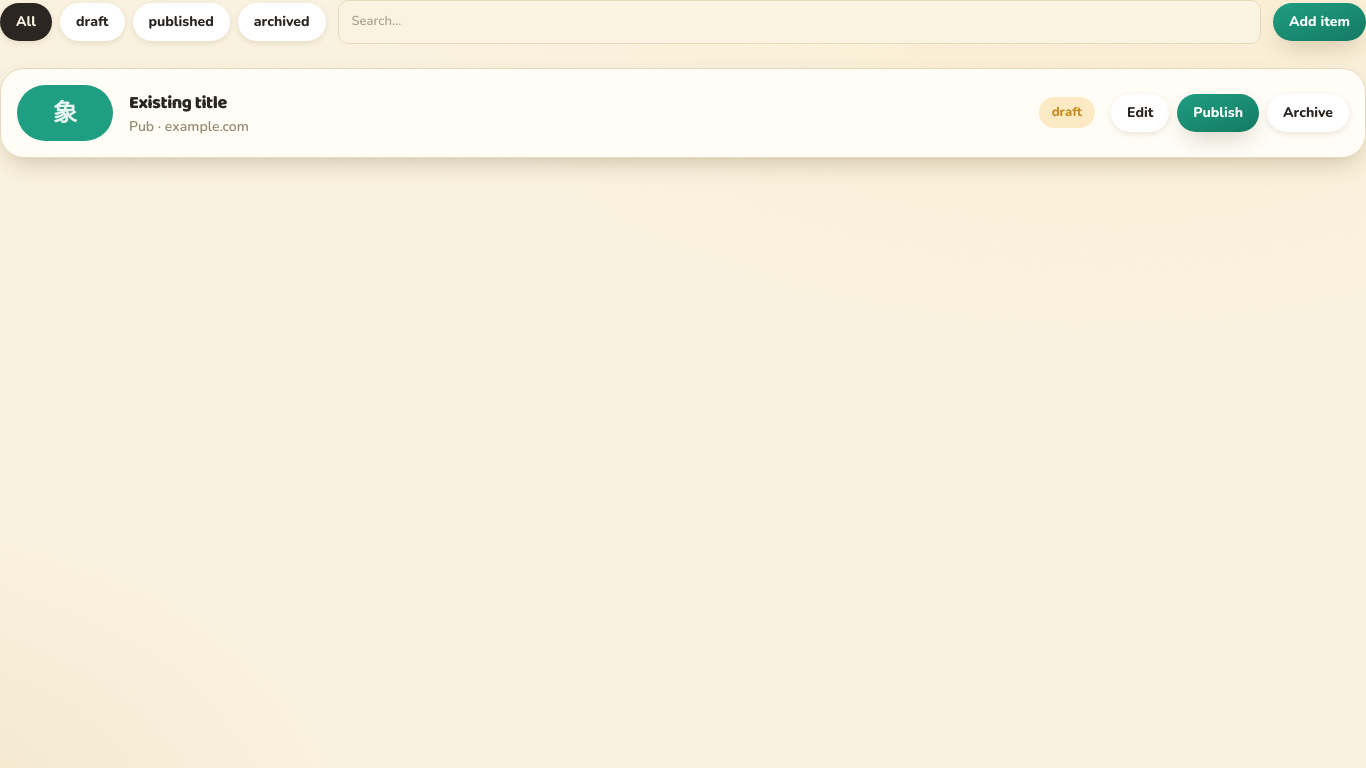
Test: AdminNewsScreen › opens the editor with server validation fields when PATCH publish fails
This screenshot has width=1366, height=768.
Click the button "Publish".
click(1218, 112)  # box [1177,94,1259,132]
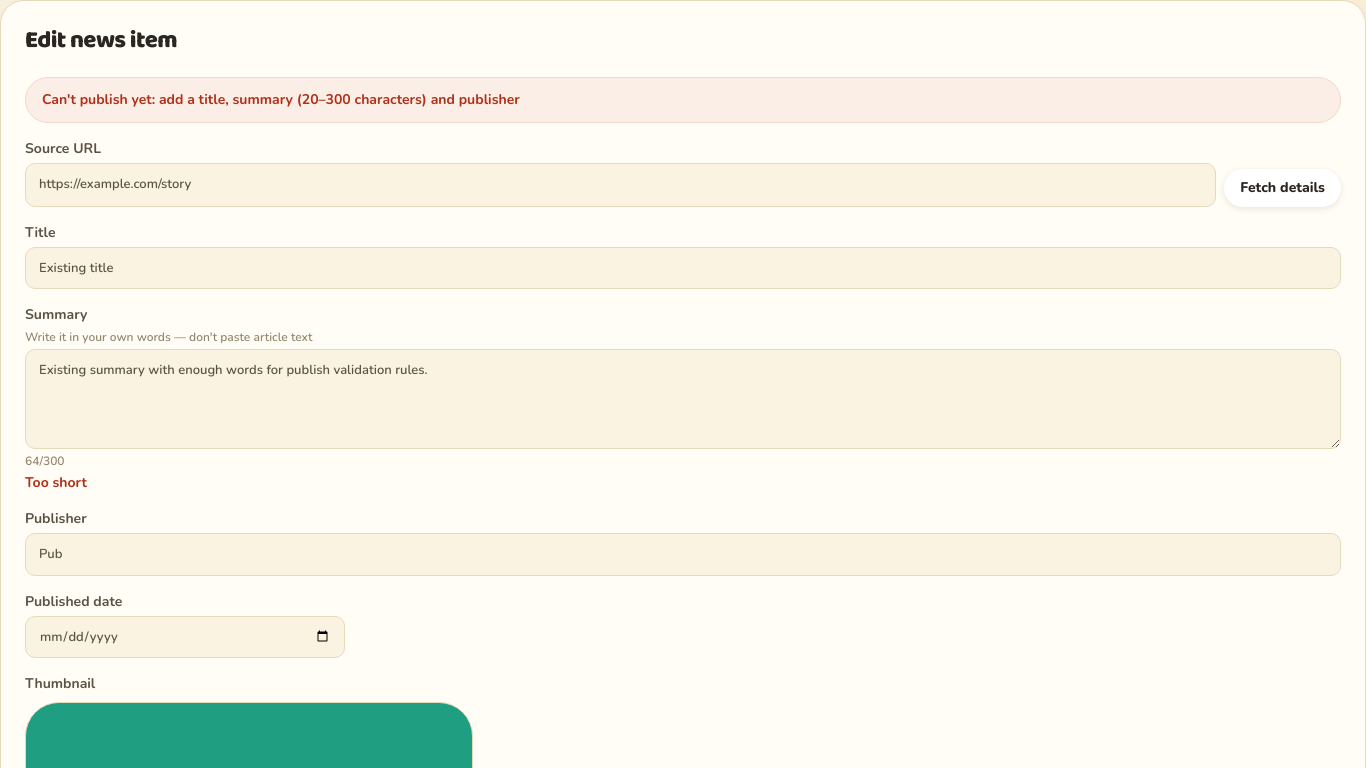
Check: the heading "Edit news item" is shown, box [25,21,177,60]
Check: the message reads "Can't publish yet: add a title, summary (20–300 characters) and publisher", box [42,90,520,109]
Check: the text "Too short" is shown, box [25,473,87,492]
